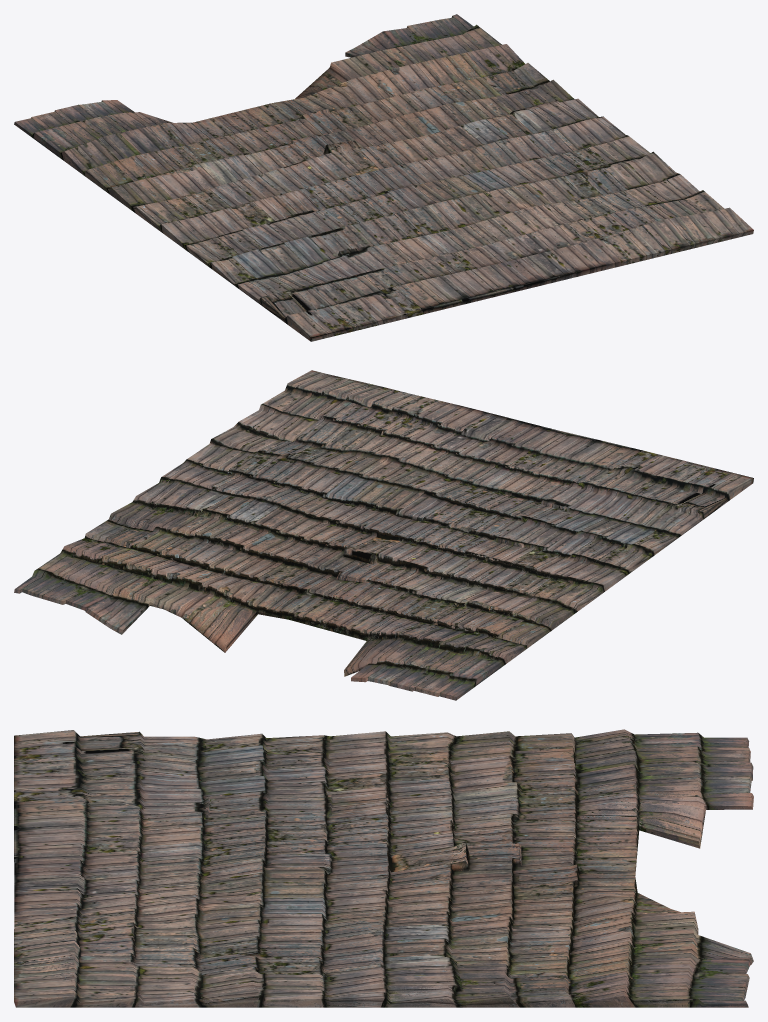
File: SM_OldCeramicRoofTiles_01_18.fbx
The picture shows the model from 3 angles, top to bottom: view 1: azimuth 30°, elevation 25°; view 2: azimuth 150°, elevation 25°; view 3: azimuth 270°, elevation 25°; orthographic projection. The views are drawn at different scales.
Visible parts, largest first — view 1: sm_OldCeramicRoofTiles_01_18_LOD0; view 2: sm_OldCeramicRoofTiles_01_18_LOD0; view 3: sm_OldCeramicRoofTiles_01_18_LOD0.
Boxes of the visible parts, x1=… form: sm_OldCeramicRoofTiles_01_18_LOD0: x1=14, y1=14, x2=753, y2=341; sm_OldCeramicRoofTiles_01_18_LOD0: x1=14, y1=370, x2=753, y2=700; sm_OldCeramicRoofTiles_01_18_LOD0: x1=14, y1=729, x2=753, y2=1007.
Size of the model in its own units: 705 by 600 by 60.72.
